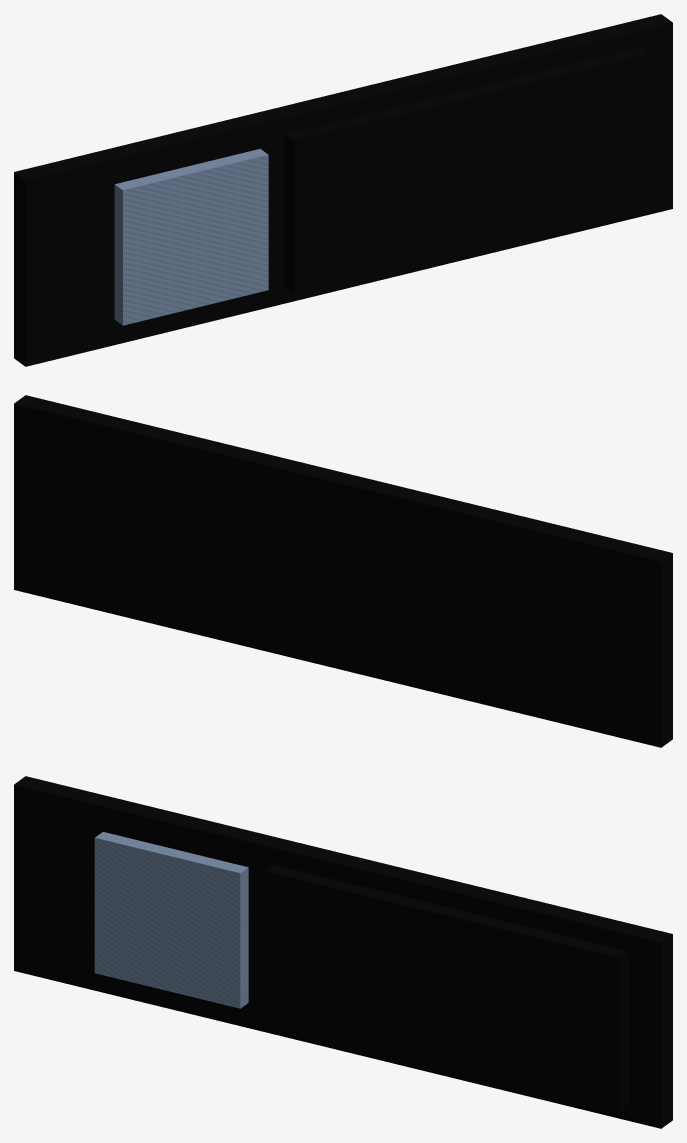
Rendered from samsung-990-pro.glb.
The picture shows the model from 3 angles, top to bottom: view 1: azimuth 30°, elevation 25°; view 2: azimuth 150°, elevation 25°; view 3: azimuth 330°, elevation 25°; orthographic projection.
Visible parts, largest first — view 1: NvmeNandLabel, NvmePCB2280, NvmeControllerChip; view 2: NvmePCB2280; view 3: NvmeNandLabel, NvmePCB2280, NvmeControllerChip.
Part boxes in pixels (x1,y1,x2,y2): NvmeNandLabel: (284, 47, 649, 292); NvmePCB2280: (14, 14, 672, 366); NvmeControllerChip: (114, 149, 268, 325); NvmePCB2280: (14, 395, 672, 747); NvmeNandLabel: (264, 865, 628, 1110); NvmePCB2280: (14, 776, 672, 1128); NvmeControllerChip: (94, 832, 248, 1008).
Bounding box in the file's own units: 0.8 × 0.22 × 0.0435.
Materials: 3 (3 with a texture image).
